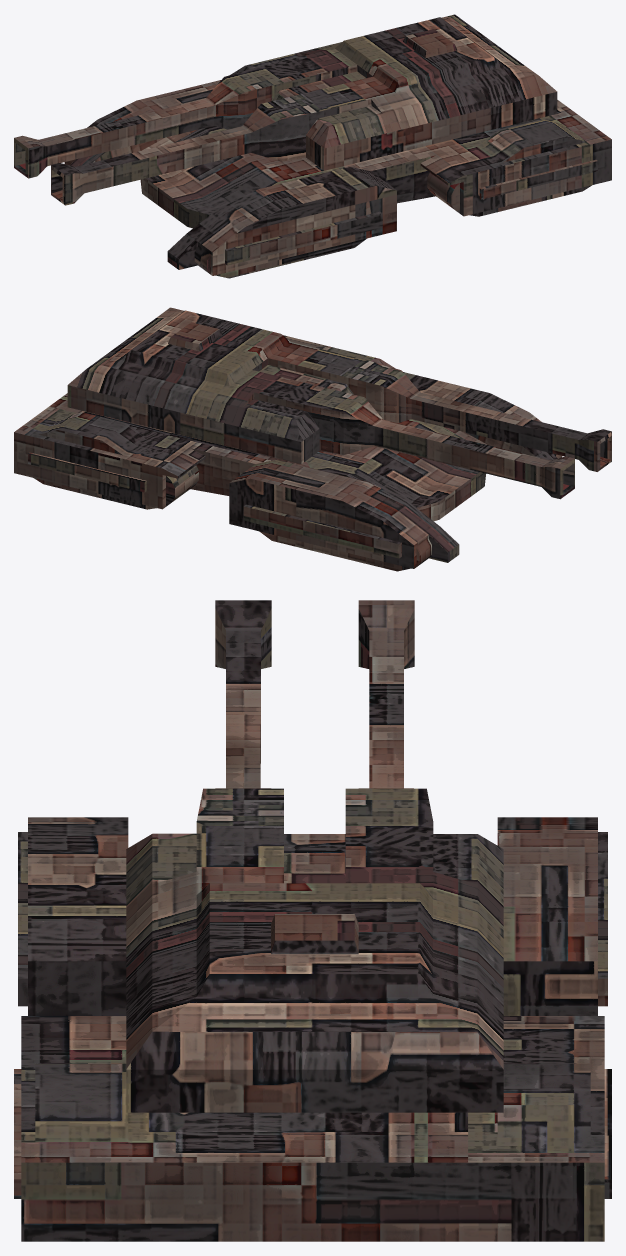
File: Tank_Tech_2-5.FBX
The picture shows the model from 3 angles, top to bottom: view 1: azimuth 30°, elevation 25°; view 2: azimuth 150°, elevation 25°; view 3: azimuth 270°, elevation 25°; orthographic projection. The views are drawn at different scales.
Parts seen in each view (by area): view 1: Box2, Box001; view 2: Box2, Box001; view 3: Box001, Box2.
Part boxes in pixels (x1=…): Box2: x1=14, y1=14, x2=557, y2=205; Box001: x1=64, y1=80, x2=611, y2=278; Box2: x1=67, y1=307, x2=611, y2=499; Box001: x1=14, y1=372, x2=562, y2=571; Box001: x1=14, y1=817, x2=611, y2=1241; Box2: x1=126, y1=600, x2=503, y2=1112.
Bounding box in the file's own units: 236 × 54.27 × 127.
